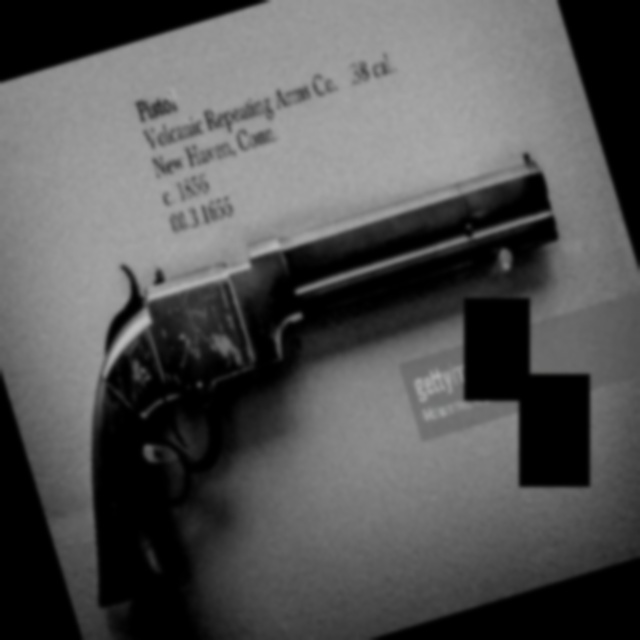gun: (3, 137, 625, 610)
